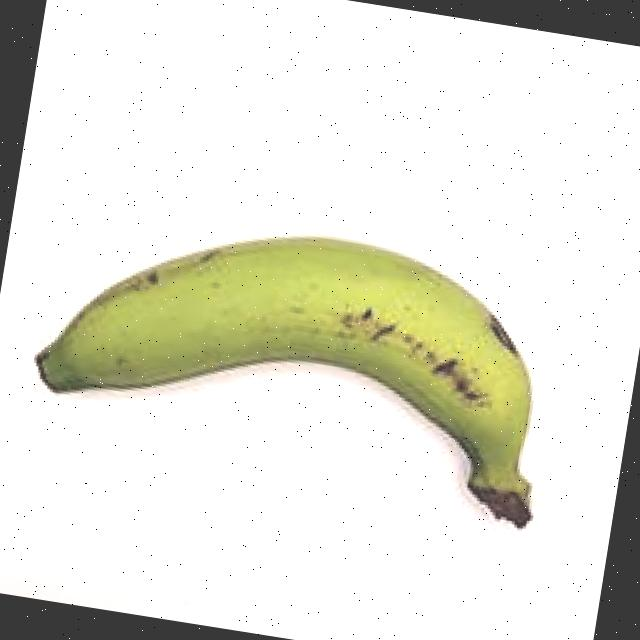Raw: (0, 154, 608, 575)
